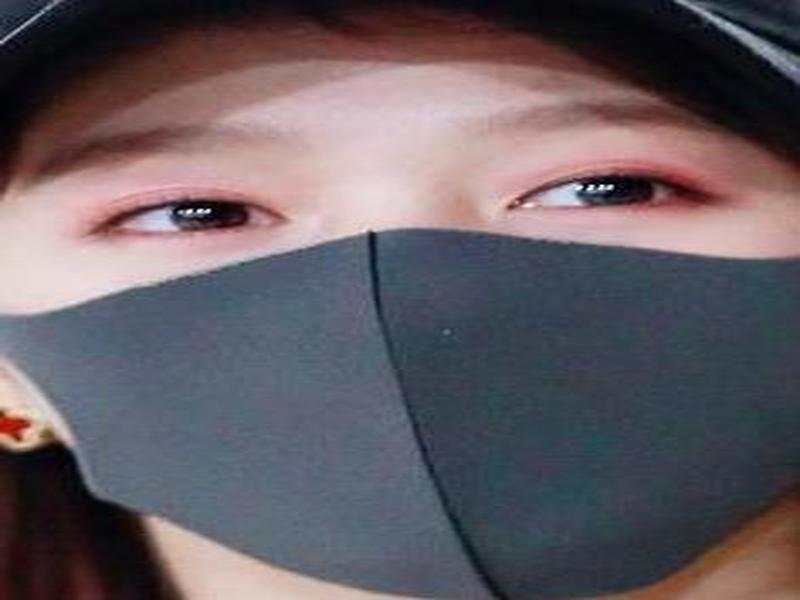with_mask: (1, 17, 796, 600)
